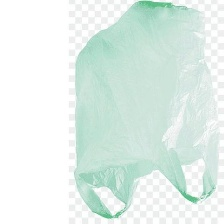plastic_bag: (68, 0, 223, 221)
